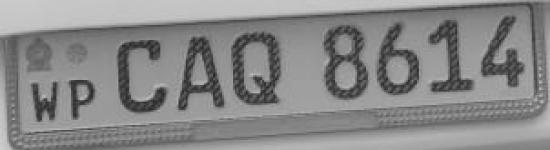1: (424, 15, 478, 96)
4: (478, 12, 530, 92)
6: (372, 19, 424, 100)
8: (317, 19, 372, 100)
A: (172, 32, 228, 113)
C: (108, 36, 174, 115)
P: (67, 75, 99, 123)
Q: (228, 26, 285, 110)
W: (29, 79, 64, 124)
